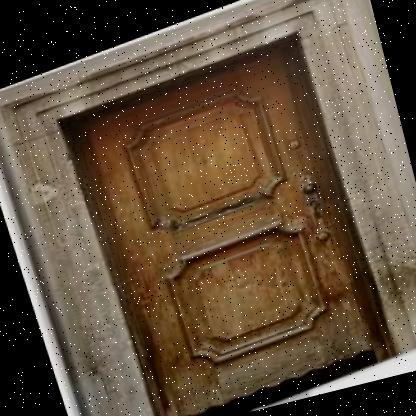door: (61, 16, 401, 416)
